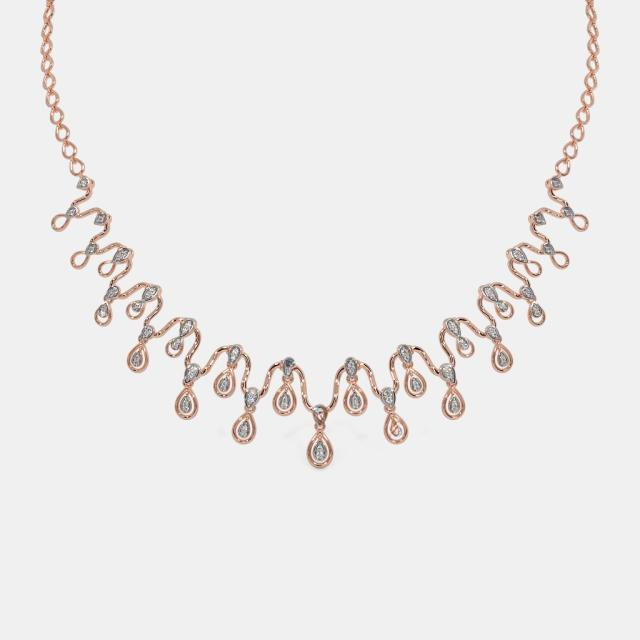missing gem: (283, 357, 295, 381), (392, 420, 403, 438), (315, 408, 325, 424)
